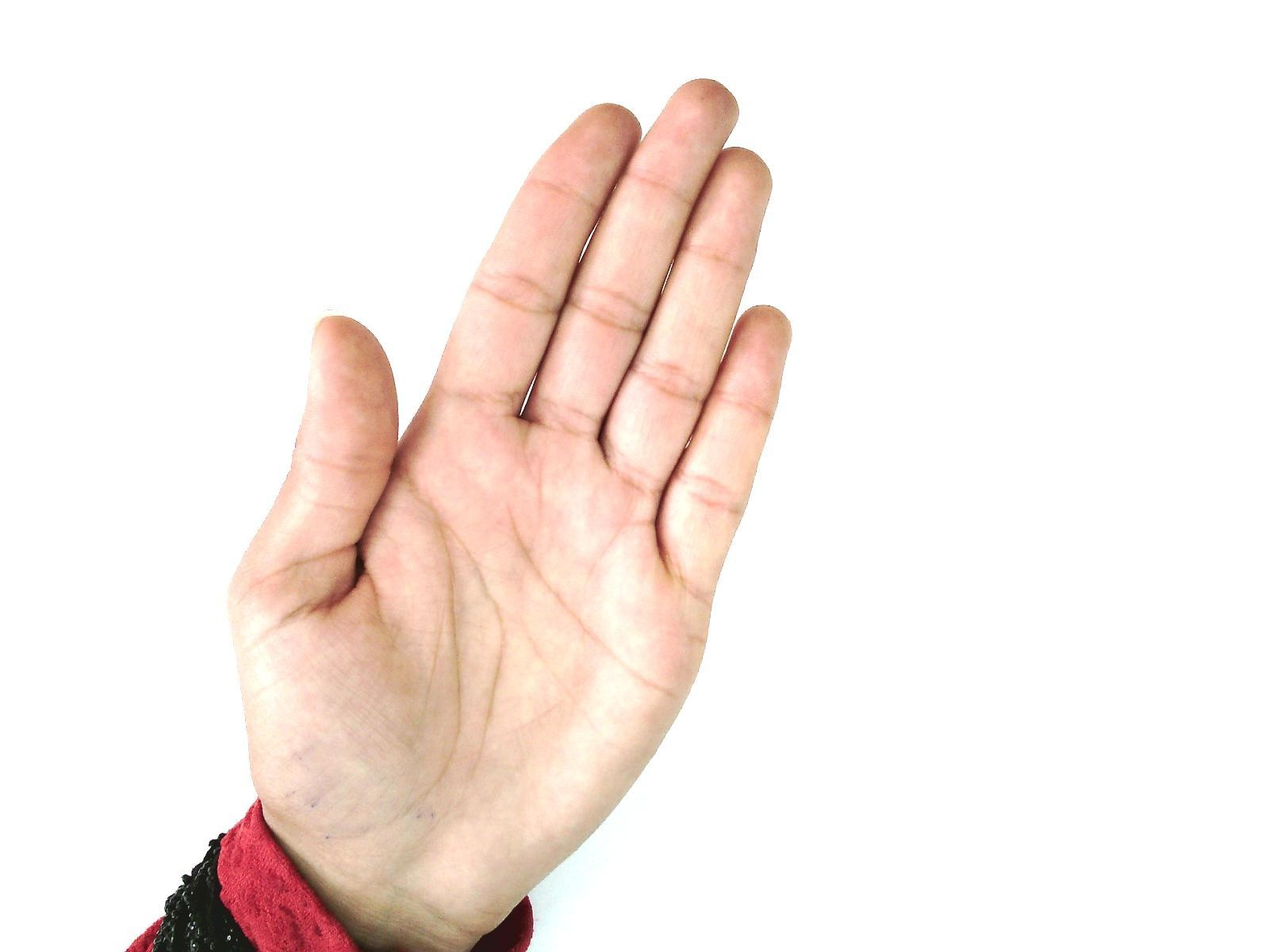open_palm: (224, 77, 796, 946)
